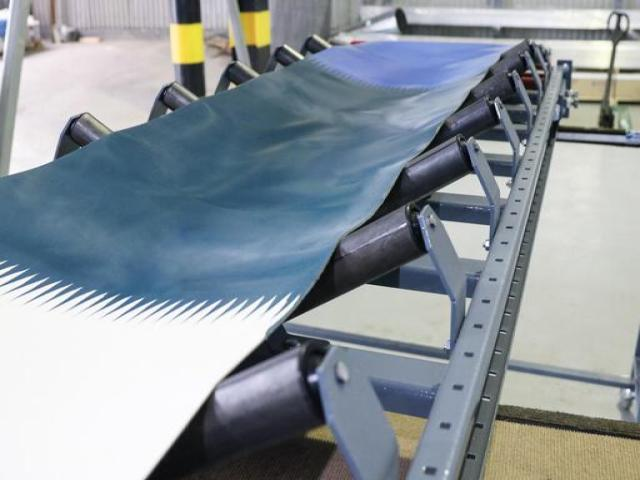conveyor: (0, 32, 575, 479)
